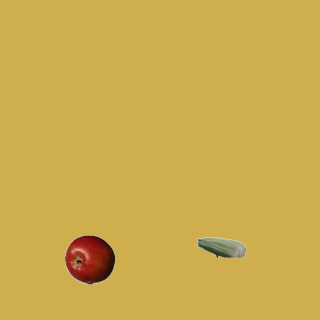Apple Braeburn: (64, 234, 114, 284)
Corn Husk: (196, 222, 246, 272)
